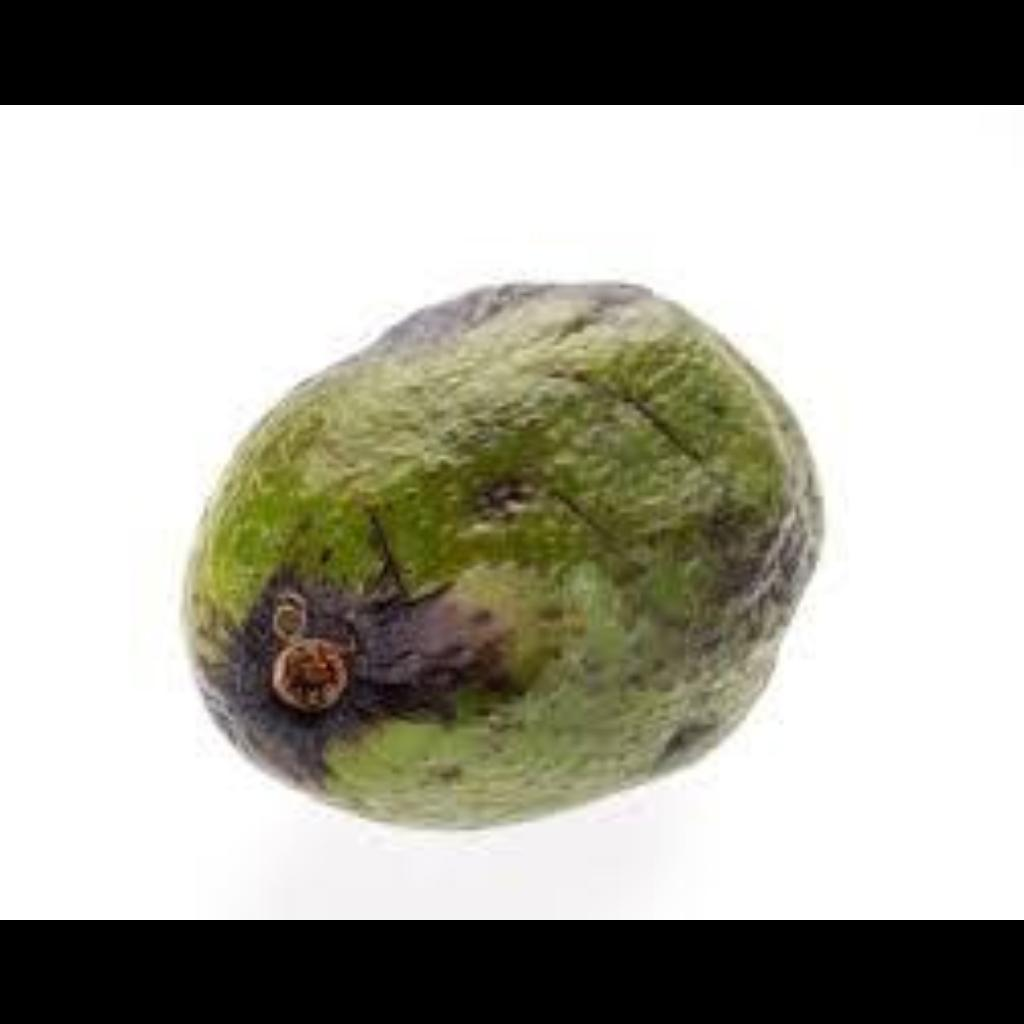antracnosis_fruto: (269, 346, 730, 721)
